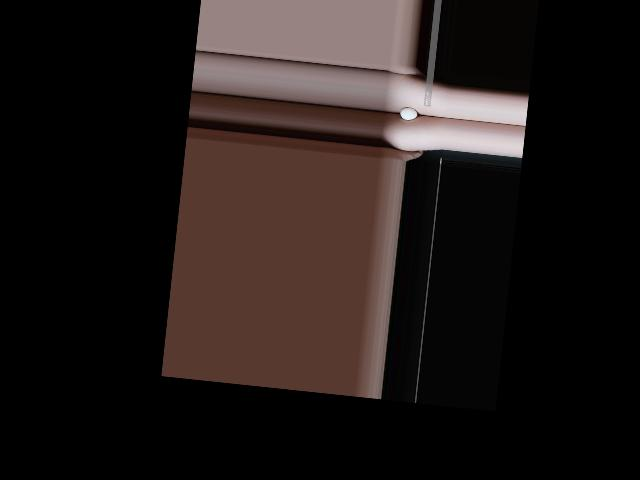egg: (400, 106, 418, 120)
